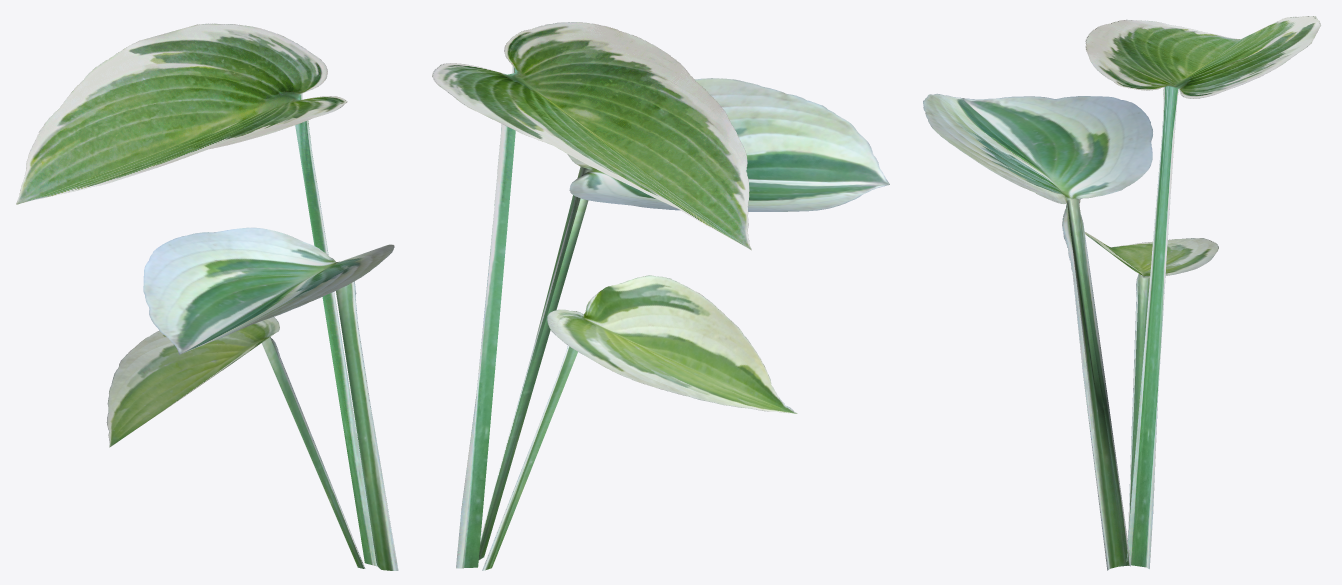
File: plant_small_wg_00_line_filler_02.fbx
The picture shows the model from 3 angles, left to right: view 1: azimuth 30°, elevation 25°; view 2: azimuth 150°, elevation 25°; view 3: azimuth 270°, elevation 25°; orthographic projection. The views are drawn at different scales.
Visible parts, largest first — view 1: plant_small_wg_00_line_filler_02; view 2: plant_small_wg_00_line_filler_02; view 3: plant_small_wg_00_line_filler_02.
Part boxes in pixels (x1=…): plant_small_wg_00_line_filler_02: x1=16, y1=23, x2=398, y2=570; plant_small_wg_00_line_filler_02: x1=432, y1=22, x2=889, y2=570; plant_small_wg_00_line_filler_02: x1=923, y1=16, x2=1320, y2=570.
Size of the model in its own units: 25.99 by 39.23 by 29.89.
Materials: 1 (1 with a texture image).
